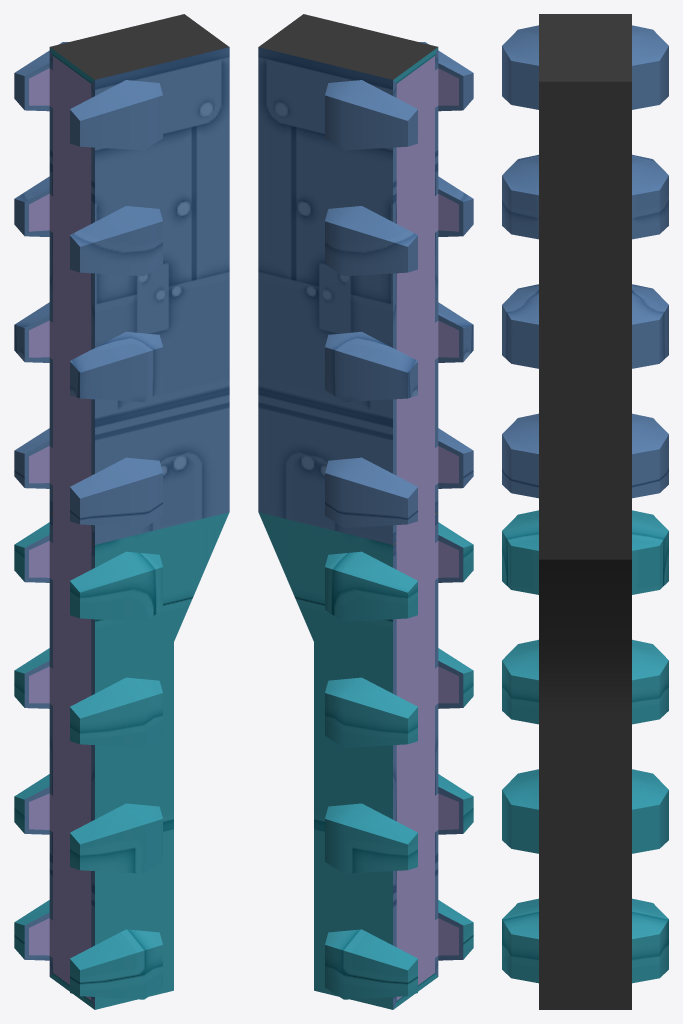
File: Env_Cnt_ForceFieldEmitter_Top.fbx
The picture shows the model from 3 angles, left to right: view 1: azimuth 30°, elevation 25°; view 2: azimuth 150°, elevation 25°; view 3: azimuth 270°, elevation 25°; orthographic projection. The views are drawn at different scales.
Parts seen in each view (by area): view 1: Force_Field_Emitter_Top, Force_Field_Emitter; view 2: Force_Field_Emitter_Top, Force_Field_Emitter; view 3: Force_Field_Emitter_Top, Force_Field_Emitter.
Boxes of the visible parts, x1,y1,x2,y2 form: Force_Field_Emitter_Top: [14, 14, 229, 544]; Force_Field_Emitter: [14, 512, 229, 1009]; Force_Field_Emitter_Top: [258, 14, 473, 544]; Force_Field_Emitter: [258, 512, 473, 1009]; Force_Field_Emitter_Top: [502, 14, 668, 559]; Force_Field_Emitter: [502, 510, 668, 1009].
Bounding box in the file's own units: 35.96 × 200 × 31.64.
